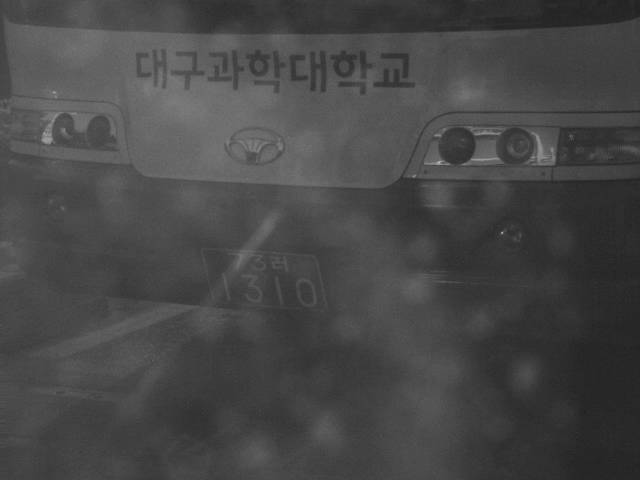car: (1, 1, 639, 329)
plate: (200, 247, 330, 314)
